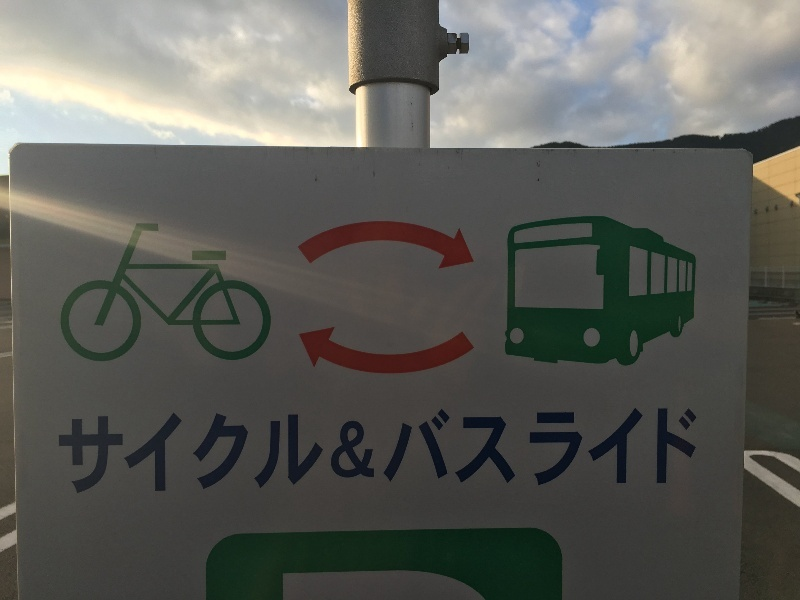text: (65, 401, 80, 498), (81, 401, 96, 498), (97, 401, 112, 498), (113, 401, 128, 498), (129, 401, 144, 498), (145, 401, 160, 498), (161, 401, 176, 498), (177, 401, 192, 498), (193, 401, 208, 498), (209, 401, 224, 498), (225, 401, 240, 498), (241, 401, 256, 498), (257, 401, 272, 498), (273, 401, 288, 498), (289, 401, 304, 498), (305, 401, 320, 498), (321, 401, 336, 498), (337, 401, 352, 498), (353, 401, 368, 498), (369, 401, 384, 498), (385, 401, 400, 498), (401, 401, 416, 498), (417, 401, 432, 498), (433, 401, 448, 498), (449, 401, 464, 498), (465, 401, 480, 498), (481, 401, 496, 498), (497, 401, 512, 498), (513, 401, 528, 498), (529, 401, 544, 498), (545, 401, 560, 498), (561, 401, 576, 498), (577, 401, 592, 498), (593, 401, 608, 498), (609, 401, 624, 498), (625, 401, 640, 498), (641, 401, 656, 498), (657, 401, 672, 498), (673, 401, 688, 498), (689, 401, 704, 498), (54, 401, 64, 498)
